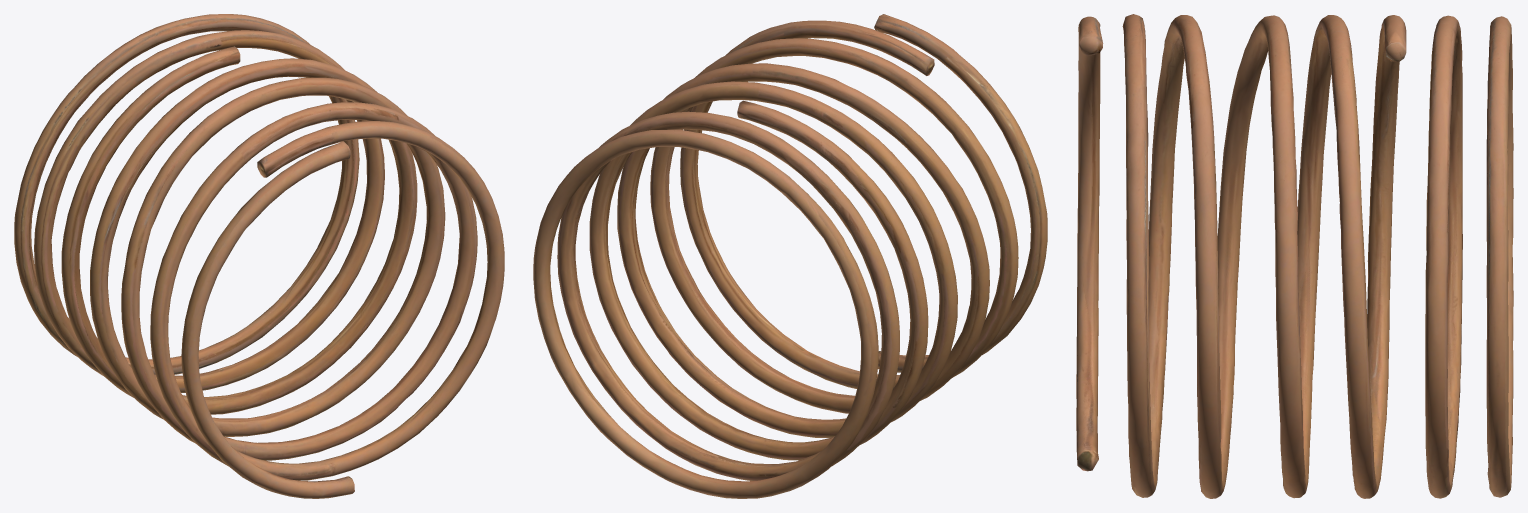
Rendered from Spring.glb.
3 views of the same model, side by side, from view 1: azimuth 30°, elevation 25°; view 2: azimuth 150°, elevation 25°; view 3: azimuth 270°, elevation 25° (orthographic). The views are drawn at different scales.
Bounding box in the file's own units: 2 × 1.97 × 1.78.
1 material, 1 textured.
